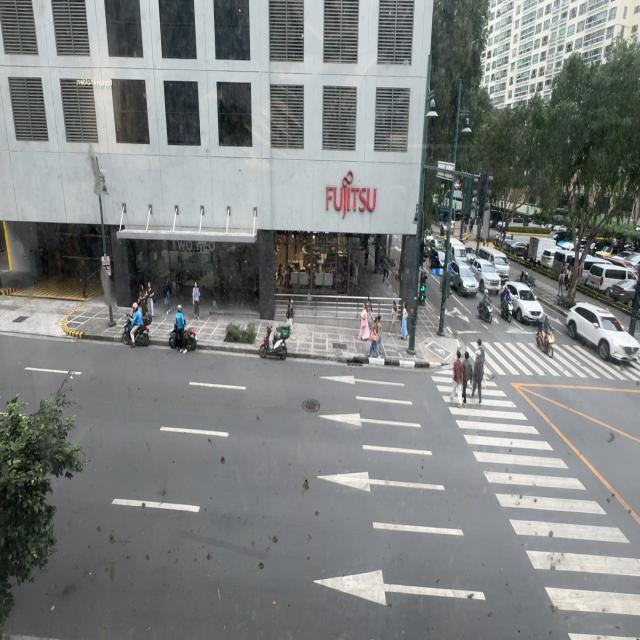crossing: (470, 341, 484, 404), (450, 349, 464, 406), (461, 344, 472, 403)
pedestrain: (280, 290, 300, 340), (370, 310, 386, 354), (356, 303, 371, 344), (192, 281, 201, 320), (401, 300, 410, 339), (389, 301, 398, 337), (557, 268, 564, 300)
